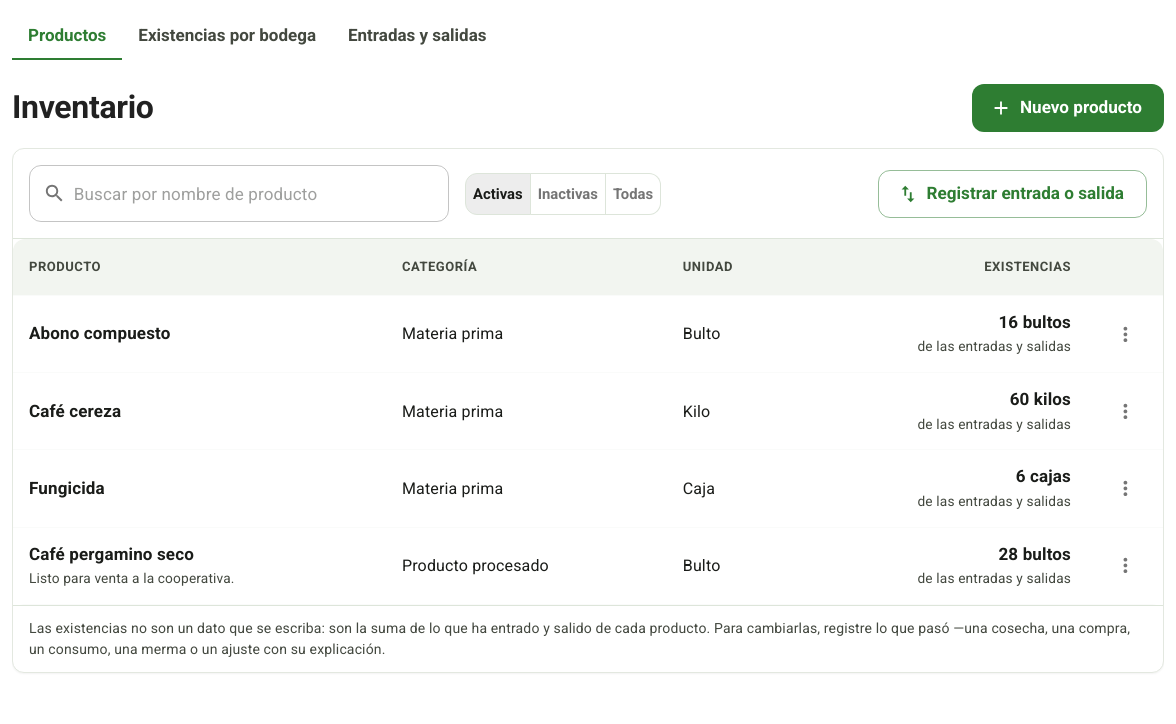
it: the stickers of an entry › says why the sheet could not be opened
expect the text "Café pergamino seco" is shown: met, box [29,544,194,564]
What coordinates should you click on to do the following:
click the tab "Entradas y salidas"
I would click on:
 (417, 36)
Its box is [332,12,502,60].
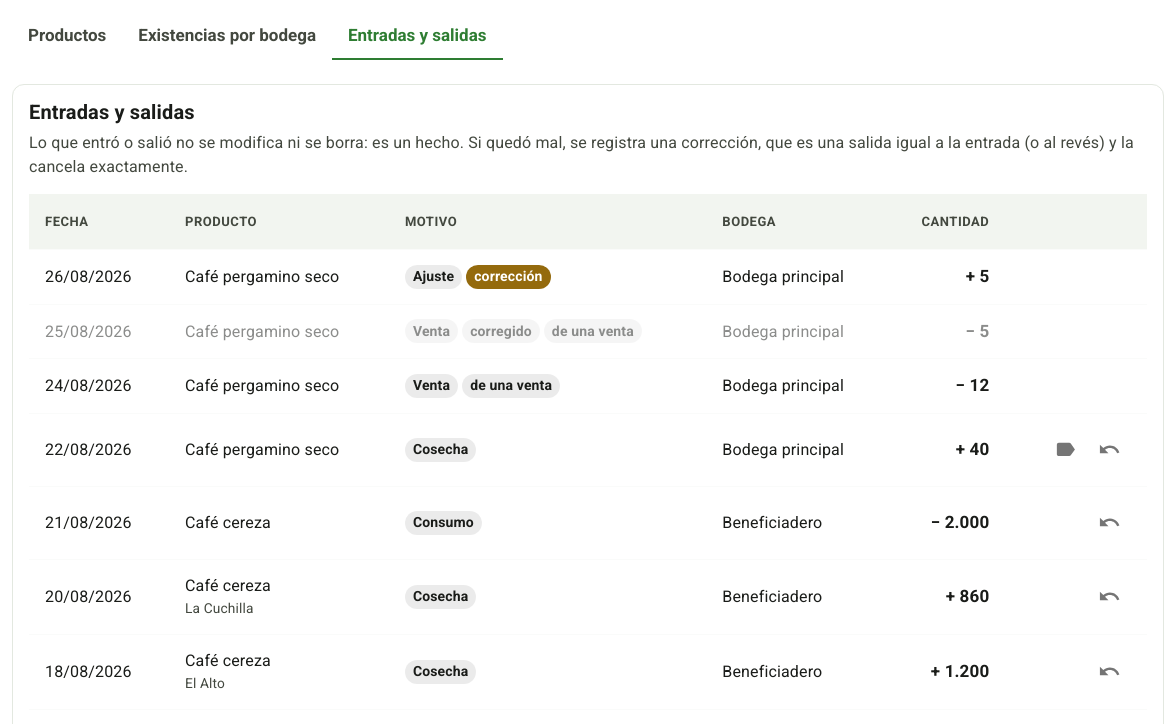
What coordinates should you click on to do the following:
click the button named "Stickers de la entrada de"
I would click on:
 (1065, 450)
Its box is [1043,428,1087,472].
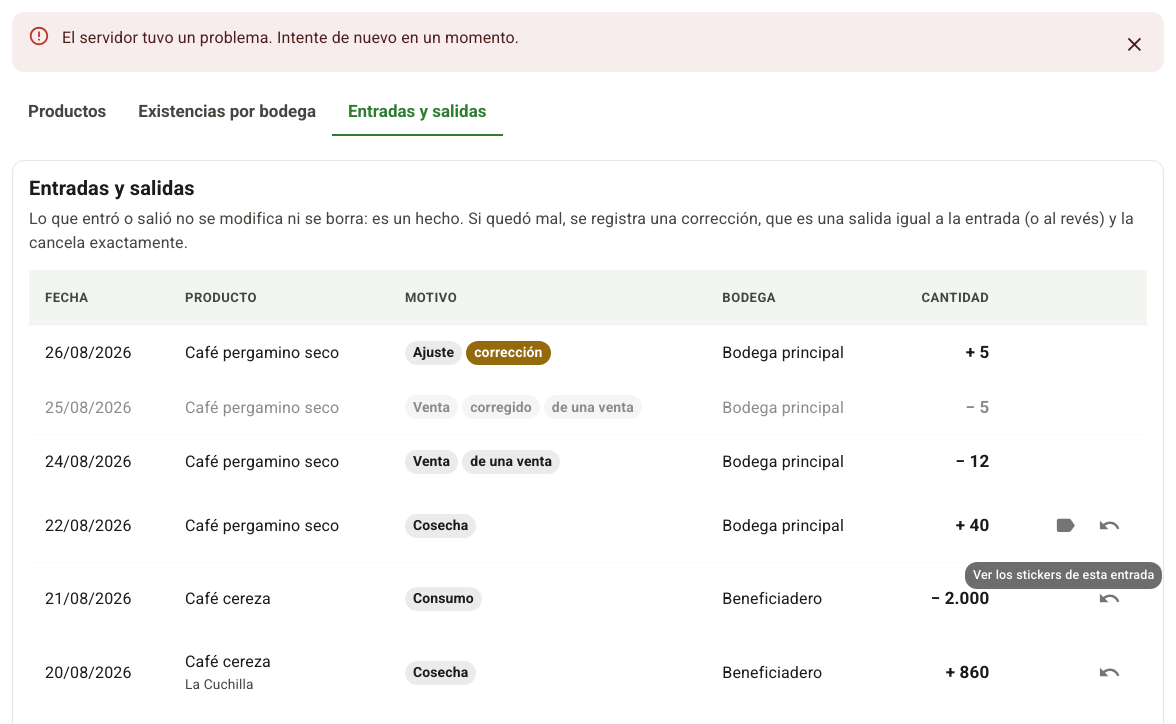
expect the message "El servidor tuvo un problema. Intente de nuevo en un momento." is shown: met, box [12,12,1164,72]
